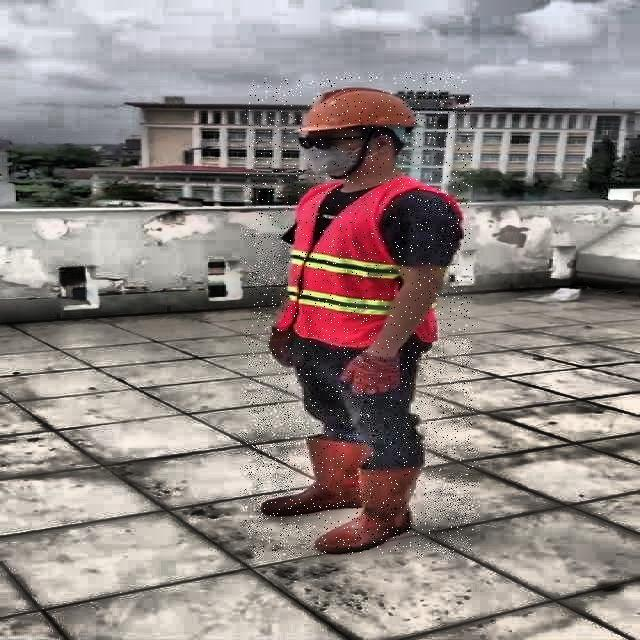safety_helmet: (299, 81, 425, 140)
safety_jacket: (281, 177, 441, 343)
